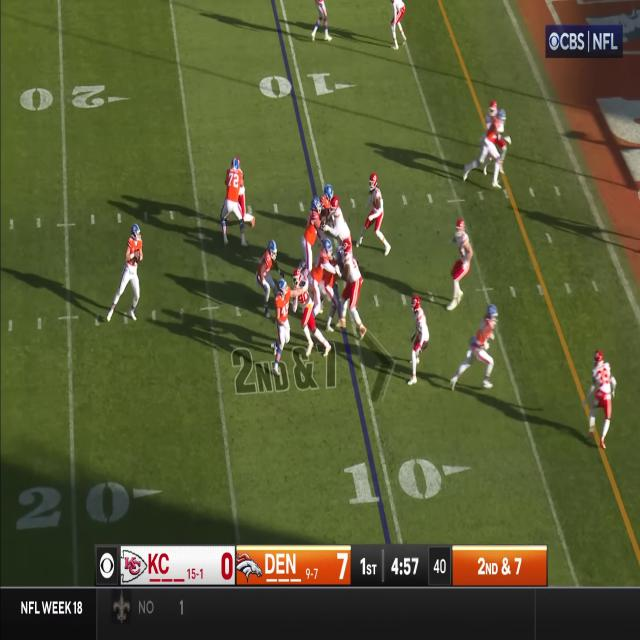Player: (588, 350, 615, 450), (445, 218, 473, 313), (116, 224, 143, 322), (220, 158, 246, 248), (471, 303, 497, 389), (407, 296, 430, 386), (483, 110, 508, 187), (342, 240, 362, 334), (293, 267, 313, 357), (364, 171, 384, 253), (310, 238, 332, 312), (300, 197, 322, 269), (274, 277, 290, 373), (257, 239, 277, 314), (330, 196, 349, 240)
